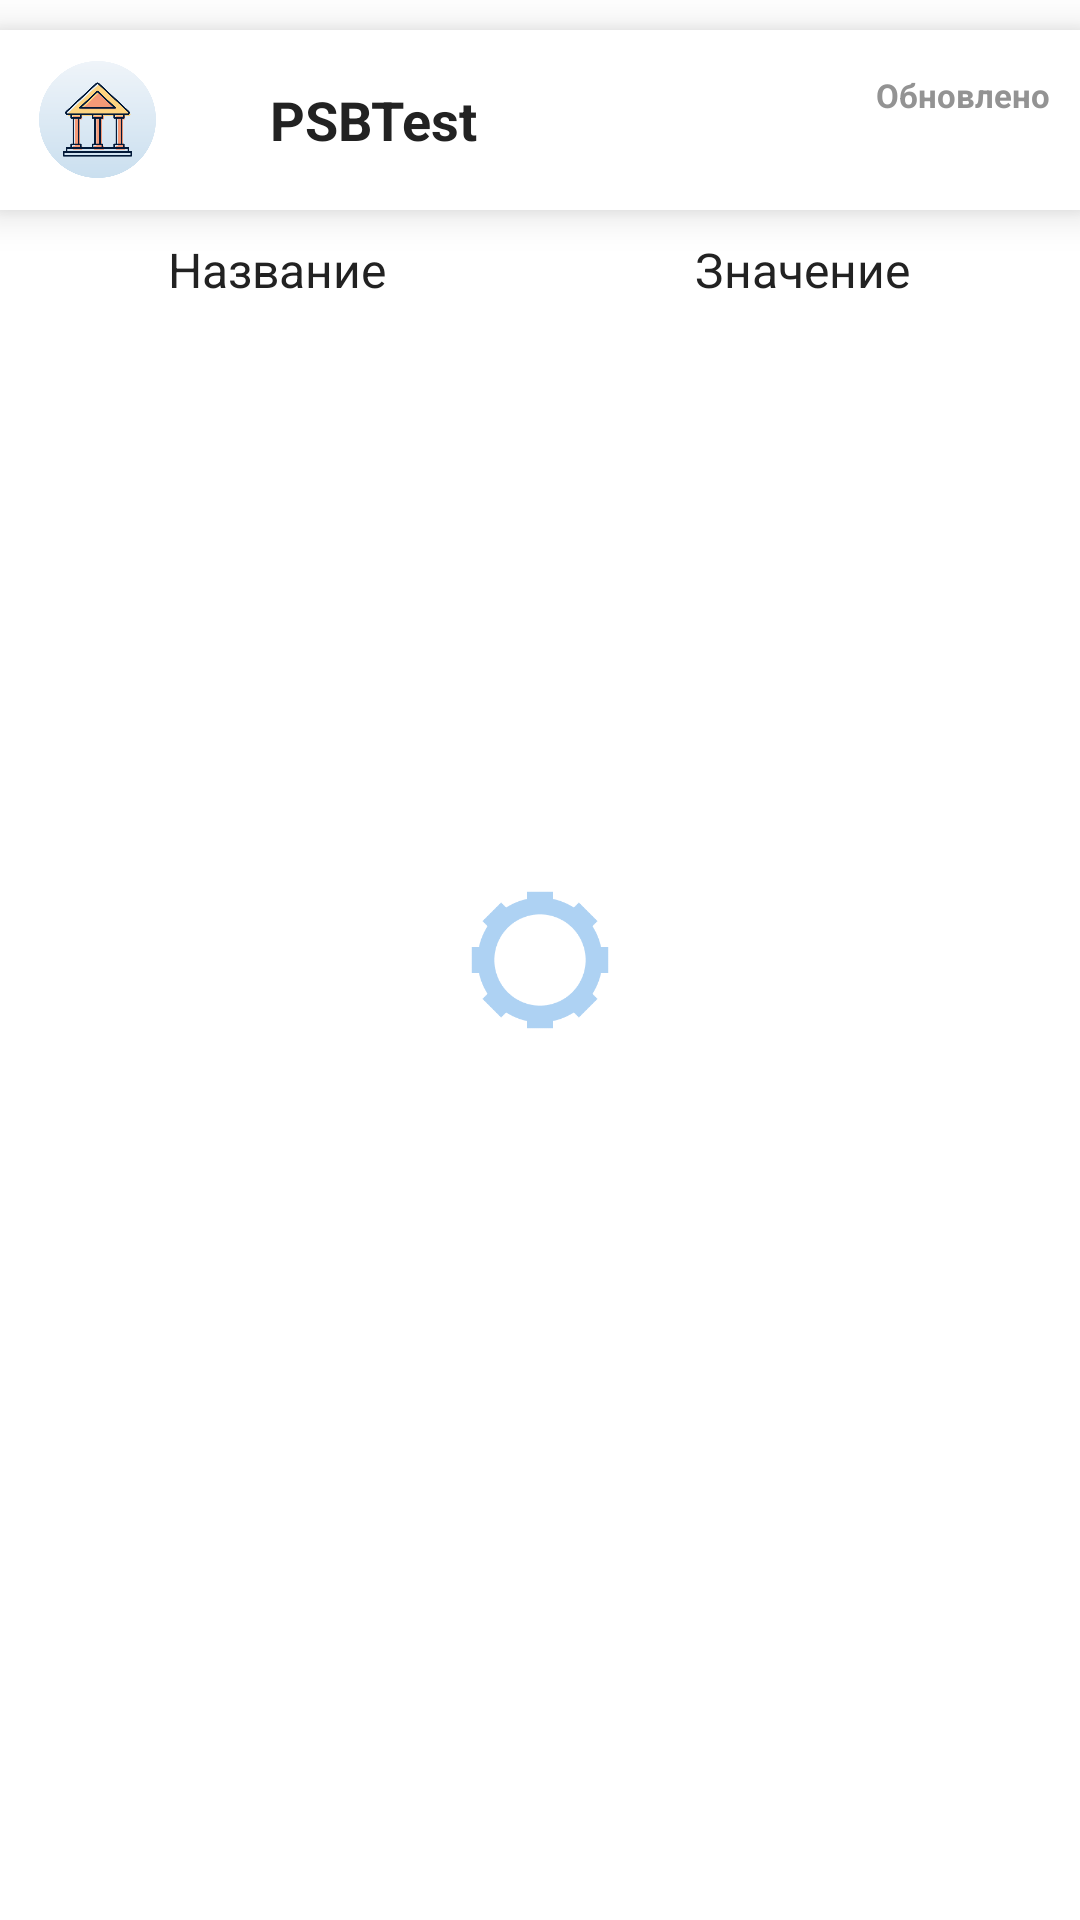

Screen size 1080x1920. Icon name, then its center in pixels as point (x, y):
loader: point (540, 960)
